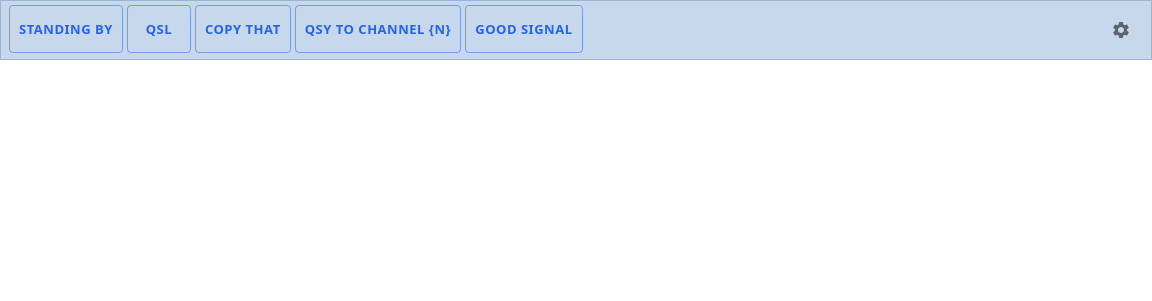
it: QuickMessages › edit mode › enters edit mode when settings icon is clicked
The width and height of the screenshot is (1152, 301).
Click the button named "edit quick messages".
click(1121, 30)  # box [1099,8,1143,52]
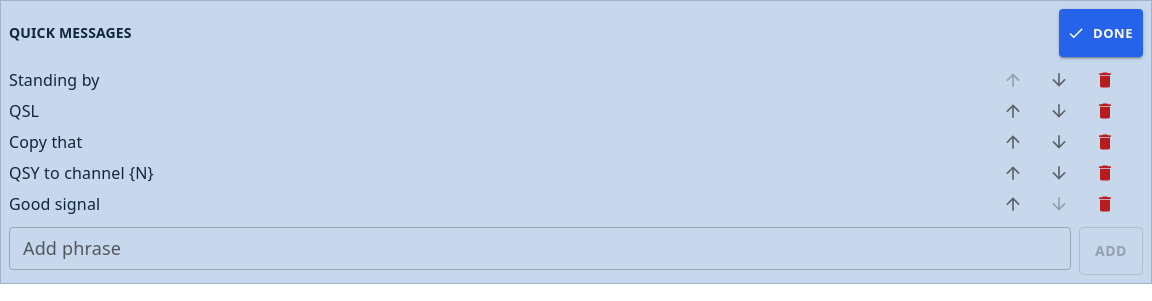
Now the button "DONE" is shown, box [1059,9,1143,57]
